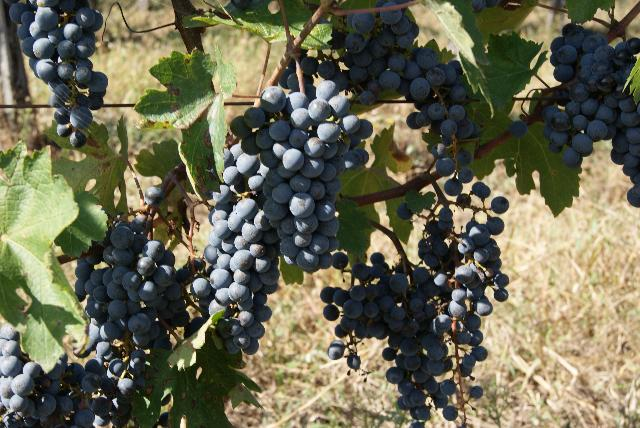grapes: (70, 218, 202, 426), (239, 80, 372, 271), (345, 1, 478, 176), (320, 252, 456, 422), (419, 180, 509, 418), (540, 22, 640, 208), (190, 145, 271, 354), (10, 0, 108, 149)
